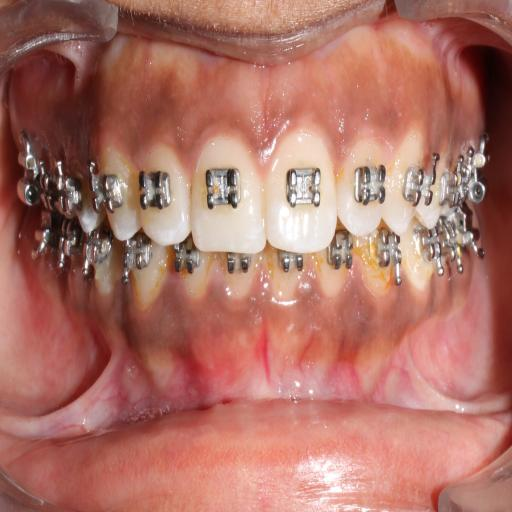correct_brace: (283, 160, 324, 216), (204, 162, 242, 214), (90, 168, 126, 218), (352, 156, 386, 206), (403, 158, 436, 209), (140, 169, 170, 212)
incorrect_brace: (138, 142, 190, 244), (337, 132, 386, 240)
